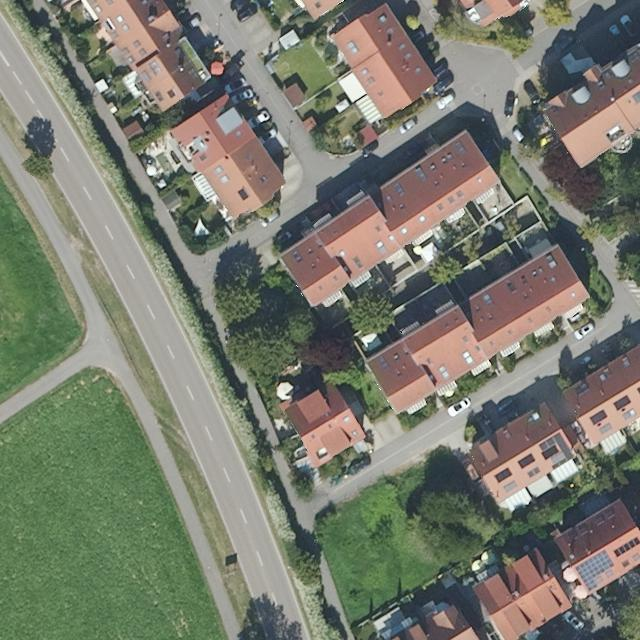PV: (572, 547, 617, 592), (536, 430, 576, 472), (611, 534, 639, 560), (586, 407, 611, 428), (611, 391, 633, 412), (494, 466, 514, 485), (518, 452, 538, 471)
